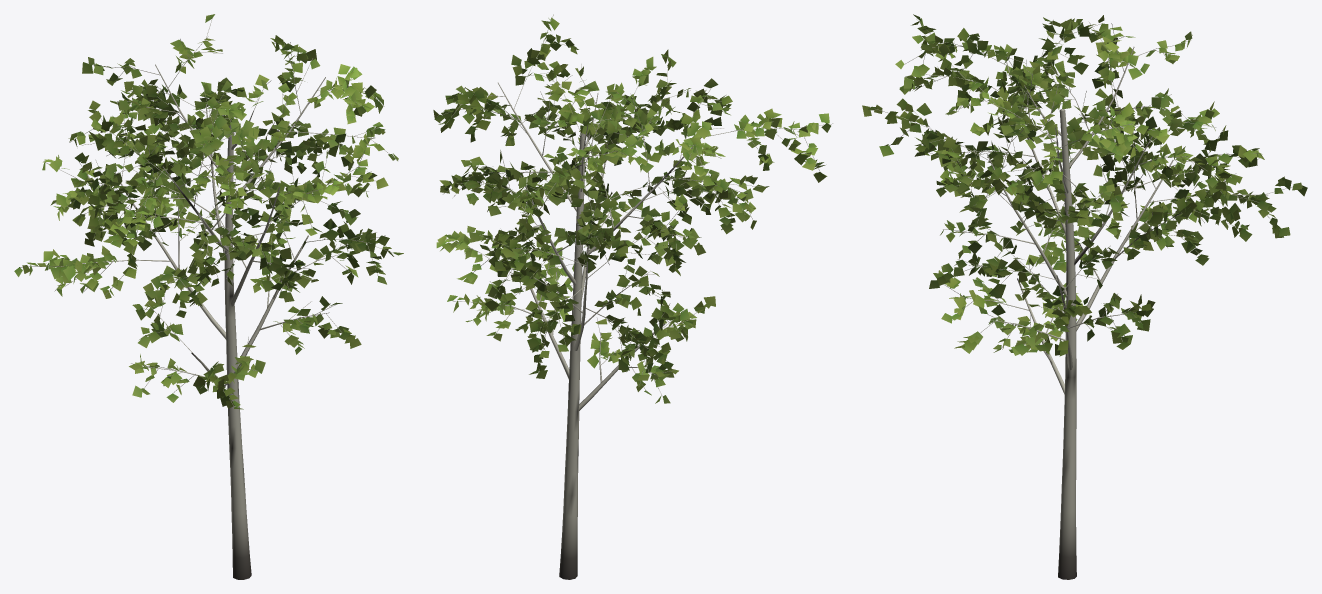
Rendered from birch-a.lod0.glb.
The picture shows the model from 3 angles, left to right: view 1: azimuth 30°, elevation 25°; view 2: azimuth 150°, elevation 25°; view 3: azimuth 270°, elevation 25°; orthographic projection. The views are drawn at different scales.
Bounding box in the file's own units: 7.47 × 11.07 × 8.25.
